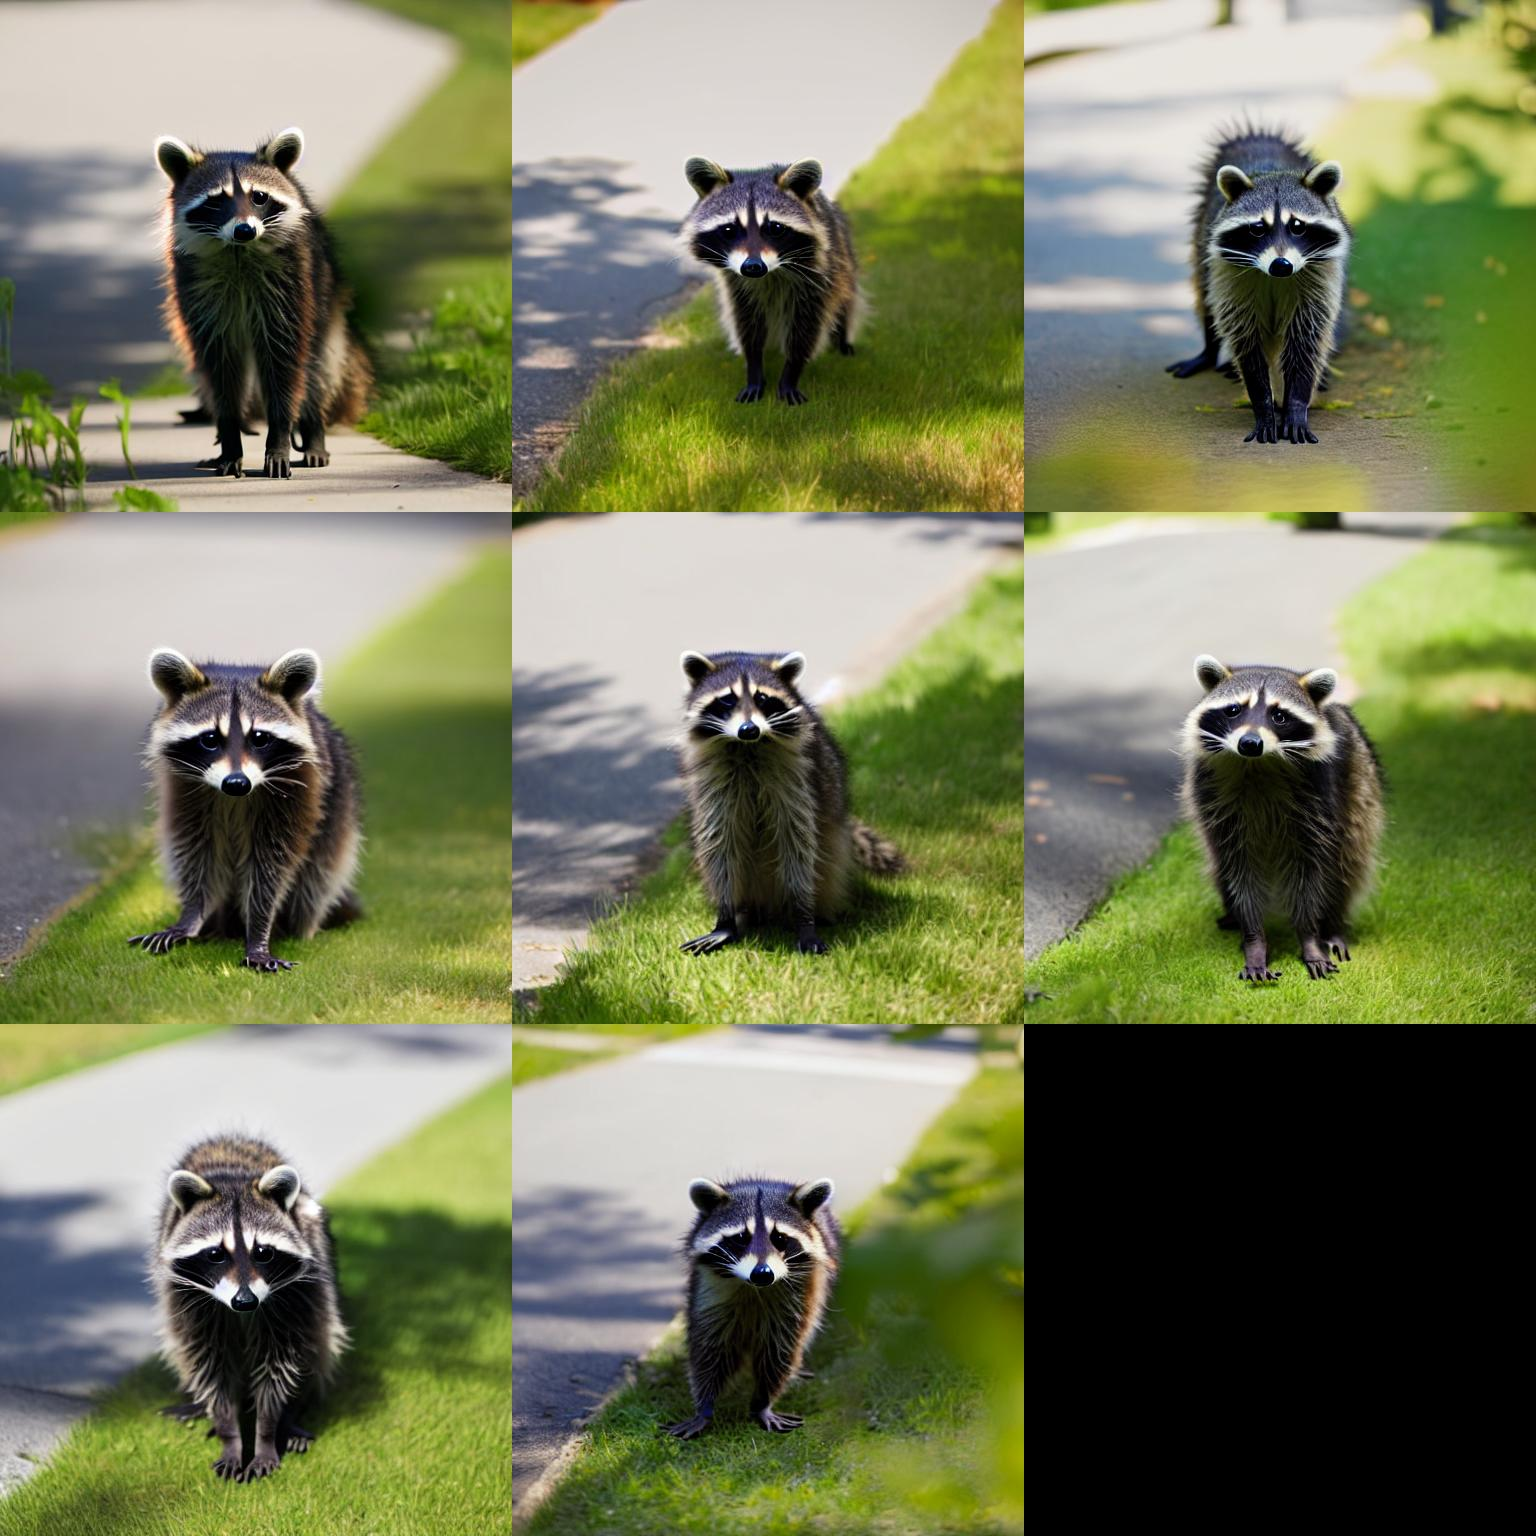raccoon: (145, 125, 395, 442), (128, 639, 388, 935), (141, 1120, 367, 1429), (668, 637, 910, 926), (1173, 648, 1405, 942), (1166, 113, 1384, 397), (670, 145, 888, 369), (668, 1163, 855, 1414)
